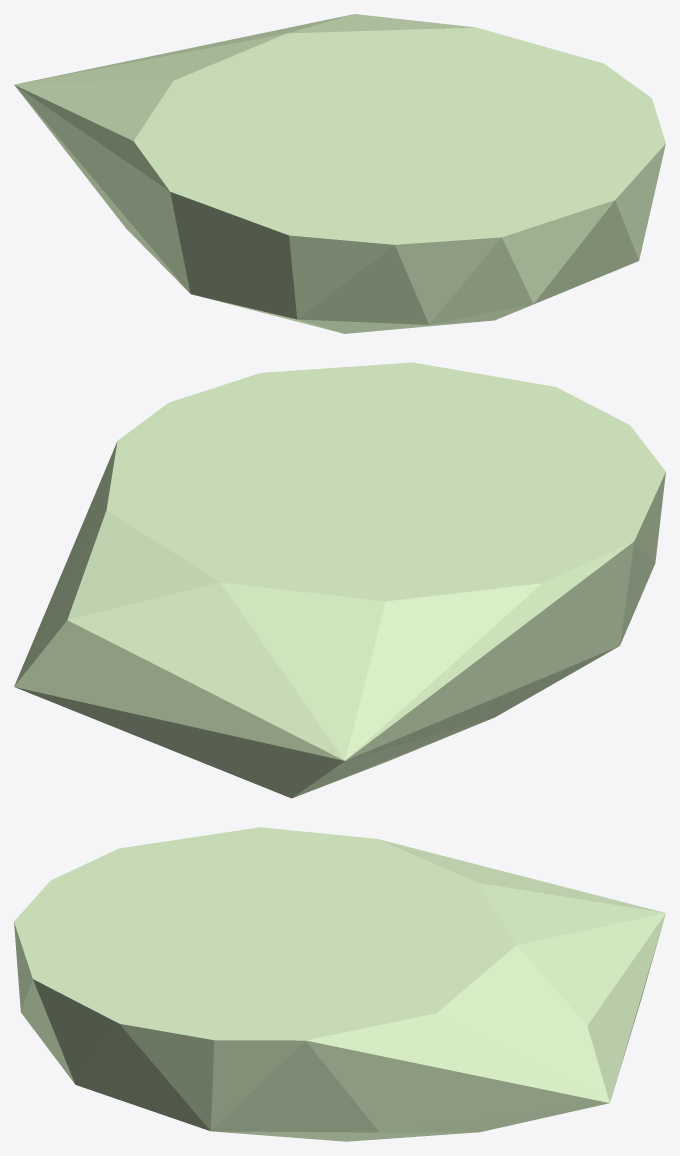
Rendered from kuka_link6_resp_coll_2.dae.
3 renders of one model, top to bottom at view 1: azimuth 30°, elevation 25°; view 2: azimuth 150°, elevation 25°; view 3: azimuth 270°, elevation 25°, orthographic. The views are drawn at different scales.
Parts seen in each view (by area): view 1: Node_0000015C5C916960; view 2: Node_0000015C5C916960; view 3: Node_0000015C5C916960.
Part boxes in pixels (left/top/right/bottom): Node_0000015C5C916960: left=14, top=14, right=665, bottom=333; Node_0000015C5C916960: left=14, top=362, right=665, bottom=798; Node_0000015C5C916960: left=14, top=827, right=665, bottom=1141.
Bounding box in the file's own units: 0.1031 × 0.0384 × 0.1336.
